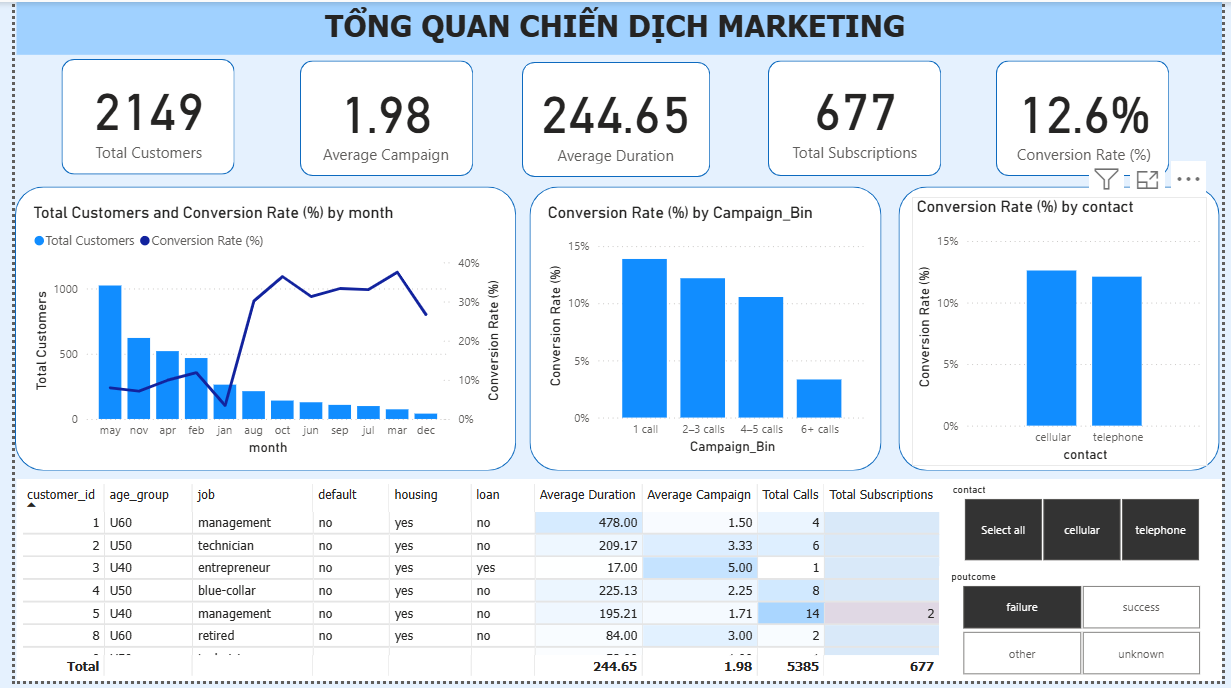

The dashboard page shown, as its layout file describes it:
{"tool":"powerbi","page":{"name":"Overview","canvas":[1280,720],"ordinal":0},"visuals":[{"type":"textbox","box":[1.3,0,1279.2,55.7],"z":0},{"type":"shape","box":[546.3,195.5,373.2,301.5],"z":1000},{"type":"shape","box":[49,60.4,183.6,122.4],"z":2000},{"type":"shape","box":[937.4,195.5,340.3,301.5],"z":3000},{"type":"shape","box":[537.4,63.9,199.6,121.8],"z":4000},{"type":"shape","box":[0,195.5,531.4,301.5],"z":5000},{"type":"shape","box":[797.7,62.3,183.6,122.4],"z":6000},{"type":"shape","box":[1040.6,61.4,183.6,122.4],"z":7000},{"type":"shape","box":[301.7,61.9,183.6,122.4],"z":8000},{"type":"tableEx","fields":{"Values":["Dim_Customer.customer_id","Fact_Marketing_Campaign.age_group","Dim_Customer.job","Dim_Customer.default","Dim_Customer.housing","Dim_Customer.loan","Fact_Marketing_Campaign.Average Duration","Fact_Marketing_Campaign.Average Campaign","Fact_Marketing_Campaign.Total Calls","Fact_Marketing_Campaign.Total Subscriptions"]},"box":[1.3,505.5,1279.2,213.8],"z":9000},{"type":"slicer","fields":{"Values":["Fact_Marketing_Campaign.contact"]},"box":[981.1,505.5,298.1,93.3],"z":10000},{"type":"card","fields":{"Values":["Fact_Marketing_Campaign.Total Customers"]},"box":[58,64.9,168.7,110.5],"z":11000},{"type":"card","fields":{"Values":["Fact_Marketing_Campaign.Total Subscriptions"]},"box":[809.6,65.3,161.2,110.5],"z":12000},{"type":"card","fields":{"Values":["Fact_Marketing_Campaign.Average Campaign"]},"box":[310.6,69.4,165.7,106],"z":13000},{"type":"card","fields":{"Values":["Fact_Marketing_Campaign.Average Call Duration"]},"box":[543.8,70.4,185.3,106.3],"z":14000},{"type":"lineStackedColumnComboChart","fields":{"Category":["Dim_Time.month"],"Y":["Fact_Marketing_Campaign.Total Customers"],"Y2":["Fact_Marketing_Campaign.Conversion Rate (%)"]},"box":[14.9,213.5,504.5,271.7],"z":15000},{"type":"columnChart","fields":{"Category":["Dim_Contact.contact"],"Y":["Fact_Marketing_Campaign.Conversion Rate (%)"]},"box":[950.9,206,313.5,285.1],"z":16000},{"type":"clusteredColumnChart","fields":{"Category":["Fact_Marketing_Campaign.Campaign_Bin"],"Y":["Fact_Marketing_Campaign.Conversion Rate (%)"]},"box":[559.8,213.5,347.8,270.2],"z":17000},{"type":"card","fields":{"Values":["Fact_Marketing_Campaign.Conversion Rate (%)"]},"box":[1048.1,70.4,170.2,106],"z":18000},{"type":"slicer","fields":{"Values":["Dim_Previous_Campaign.poutcome"]},"box":[979.8,598.8,300.7,121.8],"z":19000}]}

Visuals, with their boxes in screenshot pixels (x1, y1, x2, y2), scaled from the page's 1280x720 canvas onto the 1231x688 screenshot:
textbox: pyautogui.locateOnScreen(1, 0, 1230, 53)
shape: pyautogui.locateOnScreen(525, 187, 884, 475)
shape: pyautogui.locateOnScreen(47, 58, 224, 175)
shape: pyautogui.locateOnScreen(902, 187, 1229, 475)
shape: pyautogui.locateOnScreen(517, 61, 709, 177)
shape: pyautogui.locateOnScreen(0, 187, 511, 475)
shape: pyautogui.locateOnScreen(767, 60, 944, 176)
shape: pyautogui.locateOnScreen(1001, 59, 1177, 176)
shape: pyautogui.locateOnScreen(290, 59, 467, 176)
tableEx - Dim_Customer.customer_id x Fact_Marketing_Campaign.age_group: pyautogui.locateOnScreen(1, 483, 1230, 687)
slicer - Fact_Marketing_Campaign.contact: pyautogui.locateOnScreen(944, 483, 1230, 572)
card - Fact_Marketing_Campaign.Total Customers: pyautogui.locateOnScreen(56, 62, 218, 168)
card - Fact_Marketing_Campaign.Total Subscriptions: pyautogui.locateOnScreen(779, 62, 934, 168)
card - Fact_Marketing_Campaign.Average Campaign: pyautogui.locateOnScreen(299, 66, 458, 168)
card - Fact_Marketing_Campaign.Average Call Duration: pyautogui.locateOnScreen(523, 67, 701, 169)
lineStackedColumnComboChart - Dim_Time.month x Fact_Marketing_Campaign.Total Customers: pyautogui.locateOnScreen(14, 204, 500, 464)
columnChart - Dim_Contact.contact x Fact_Marketing_Campaign.Conversion Rate (%): pyautogui.locateOnScreen(914, 197, 1216, 469)
clusteredColumnChart - Fact_Marketing_Campaign.Campaign_Bin x Fact_Marketing_Campaign.Conversion Rate (%): pyautogui.locateOnScreen(538, 204, 873, 462)
card - Fact_Marketing_Campaign.Conversion Rate (%): pyautogui.locateOnScreen(1008, 67, 1172, 169)
slicer - Dim_Previous_Campaign.poutcome: pyautogui.locateOnScreen(942, 572, 1230, 687)
